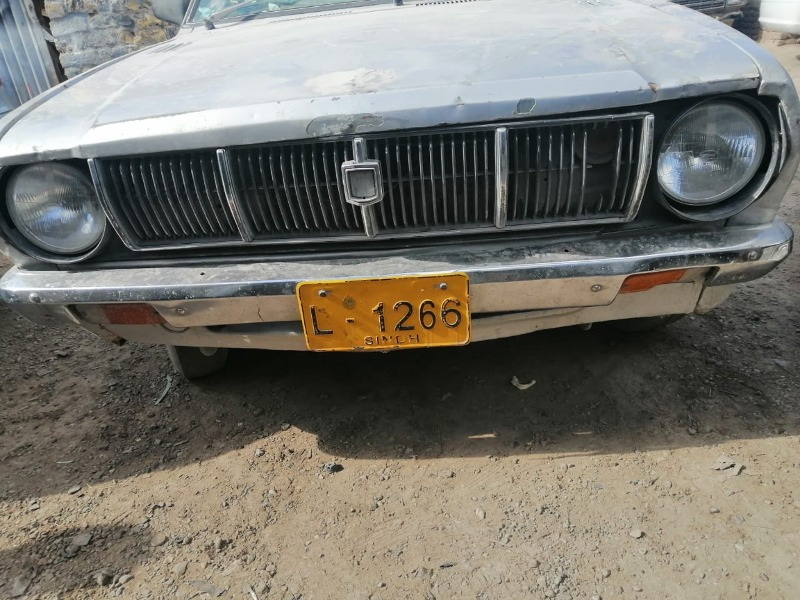License Plate: (294, 273, 475, 358)
